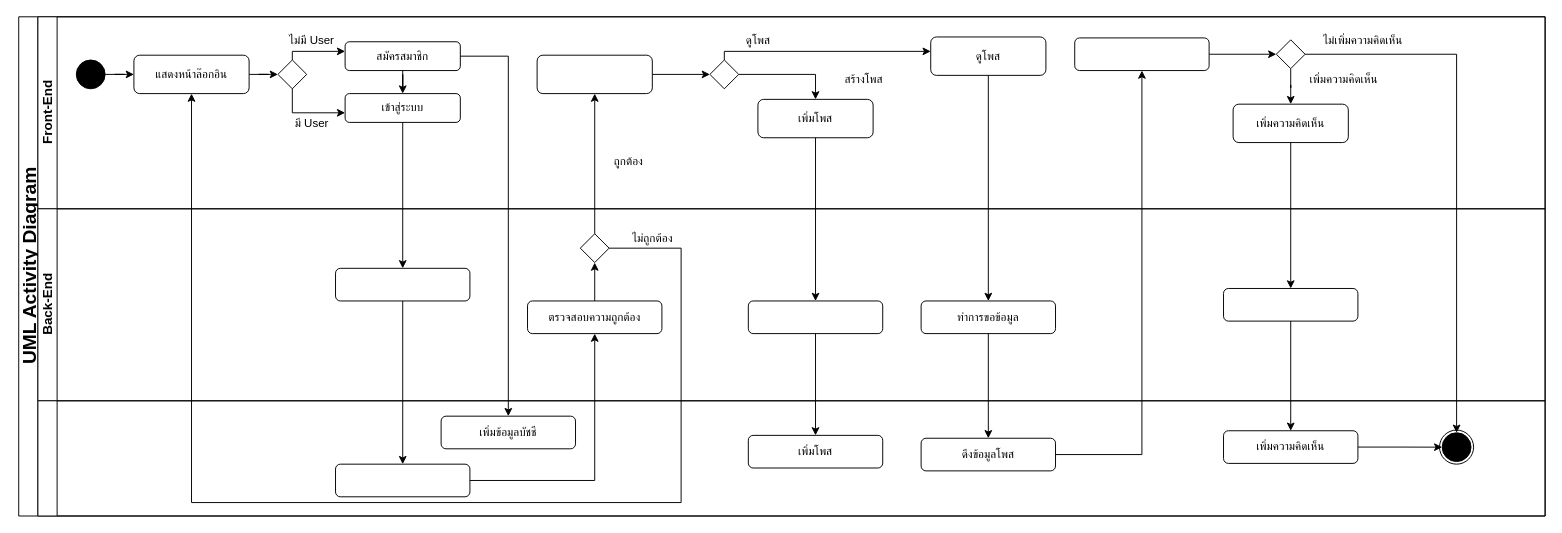
This 1562x533 diagram has some shape labels left out. Each missing label, with the box of its shape:
Database: (37, 400, 1545, 516)
ดึงข้อมูลบัชชีผู้ใช้: (335, 463, 470, 497)
ตรวจสอบผู้ใช้และรหัสผ่าน: (335, 267, 470, 301)
ทำการส่งข้อมูลการเพิ่มความคิดเห็น: (1223, 288, 1358, 321)
ทำการส่งข้อมูลการเพิ่มโพส: (747, 300, 883, 334)
เข้าสู่หน้า Dashboard: (536, 54, 652, 94)
เข้าสู่หน้าโพส: (1074, 37, 1209, 71)
